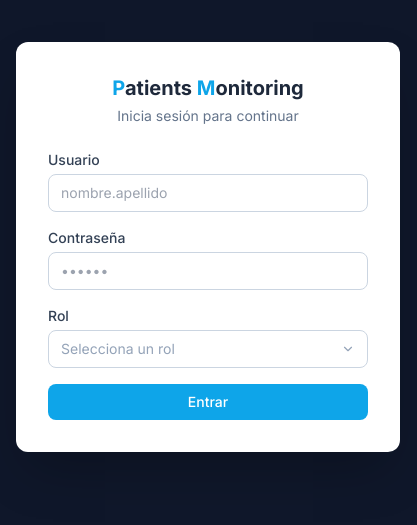
Test: Login › shows error message on failed login
The width and height of the screenshot is (417, 525).
In the field labelled "Usuario": x=208, y=193 48,174 -> 368,212, type "javier.herrada"
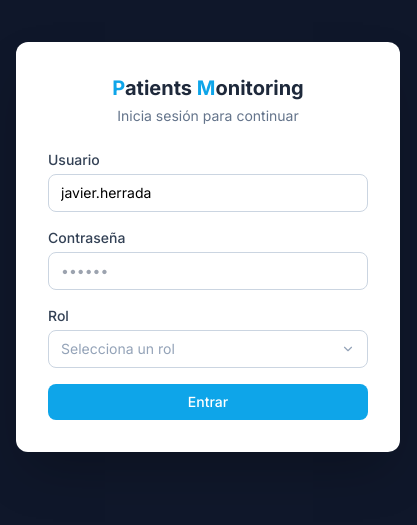
In the password field labelled "Contraseña": x=208, y=271 48,252 -> 368,290, type "wrong"
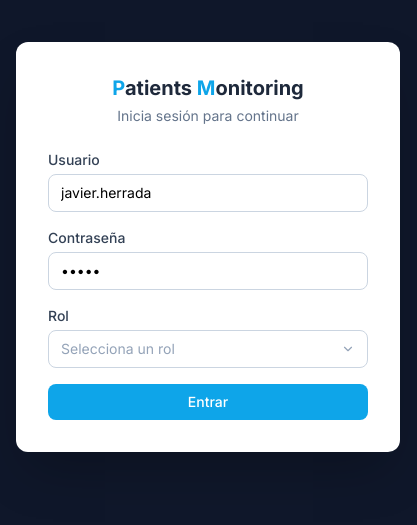
Click the dropdown labelled "rol": x=118, y=348 48,330 -> 368,368
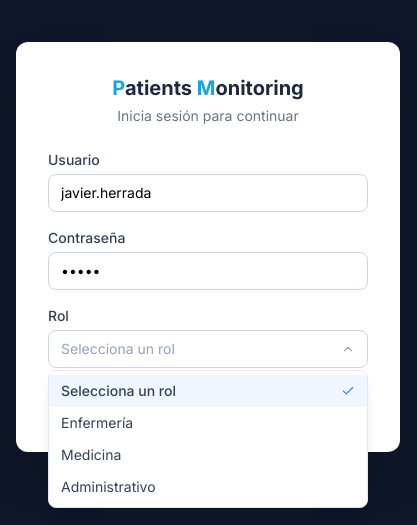
Click the button "Enfermería": x=97, y=422 49,407 -> 367,439
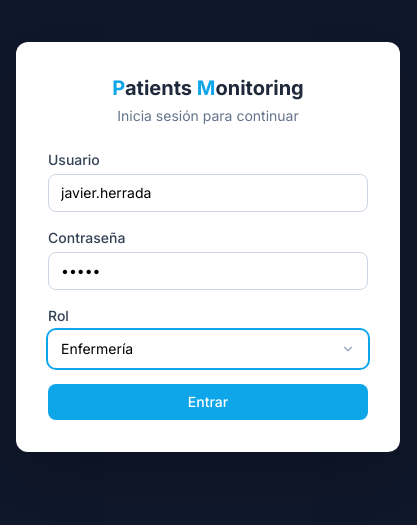
Click the button "Entrar": x=208, y=402 48,384 -> 368,420
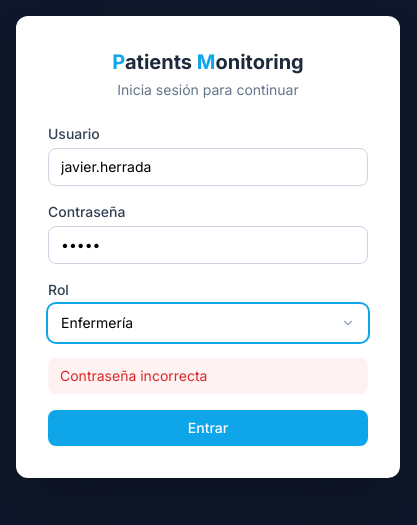
Expected: the text "Contraseña incorrecta" is shown, 48,358 -> 368,394
